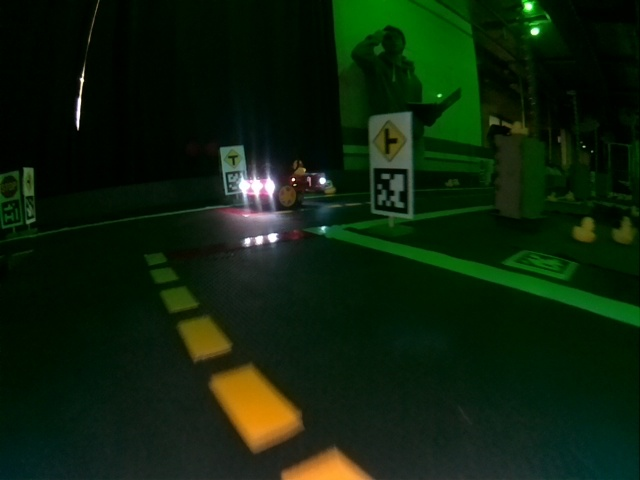Duckie: (573, 219, 594, 242)
Intersection sign: (370, 118, 410, 161), (224, 148, 244, 169), (25, 170, 35, 193)
QR code: (503, 250, 578, 280), (372, 169, 408, 215), (225, 171, 245, 193), (4, 201, 20, 225), (25, 196, 35, 220)
Stop sign: (1, 175, 17, 197)
